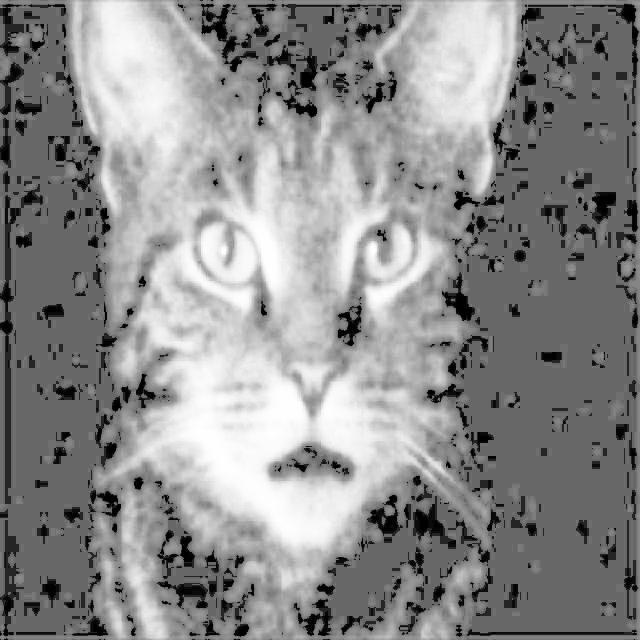Cat: (71, 0, 530, 640)
